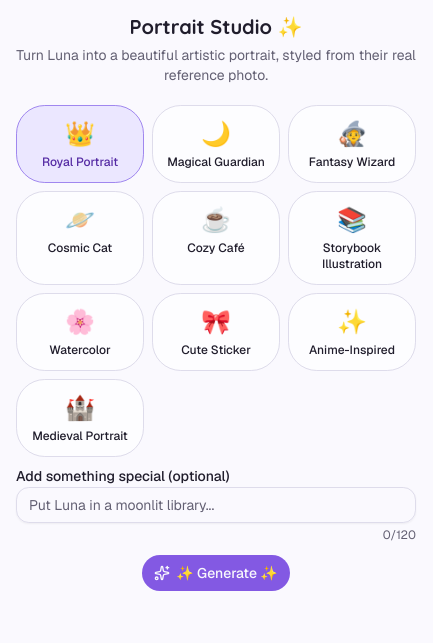
it: PortraitStudio › shows a network/API error message, never a stack trace
Click the button "✨ Generate ✨" at (216, 573), box 142,555 -> 290,591
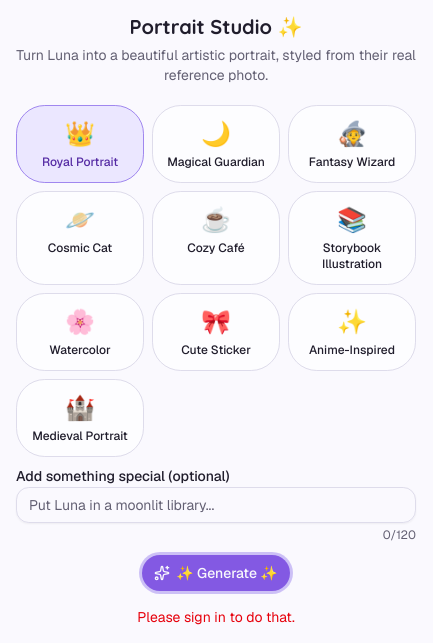
Check: the message reads "Please sign in to do that.", box 137,608 -> 295,626
